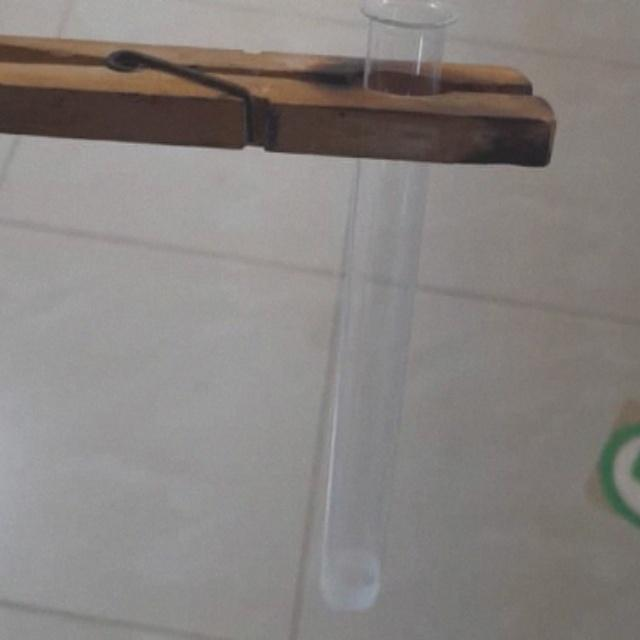Test Tube Holder: (0, 12, 580, 169)
